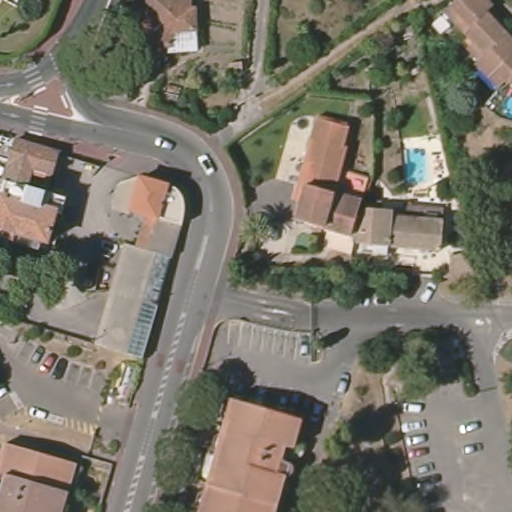pool: (406, 147, 429, 188), (502, 89, 512, 122)
